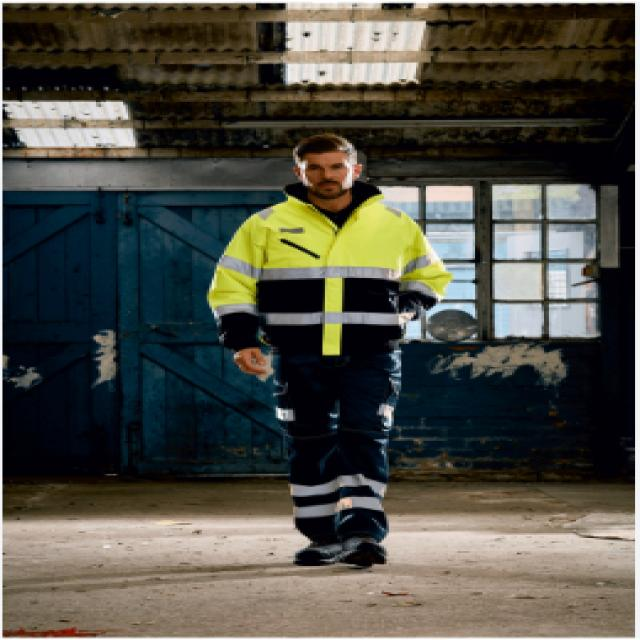shoes: (290, 528, 399, 574)
vest: (200, 174, 451, 362)
